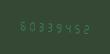five: (71, 20, 79, 35)
four: (62, 20, 70, 34)
nine: (53, 19, 61, 34)
six: (17, 18, 25, 32)
three: (35, 18, 43, 33), (44, 19, 52, 33)
two: (80, 21, 88, 35)
zero: (26, 18, 34, 32)
